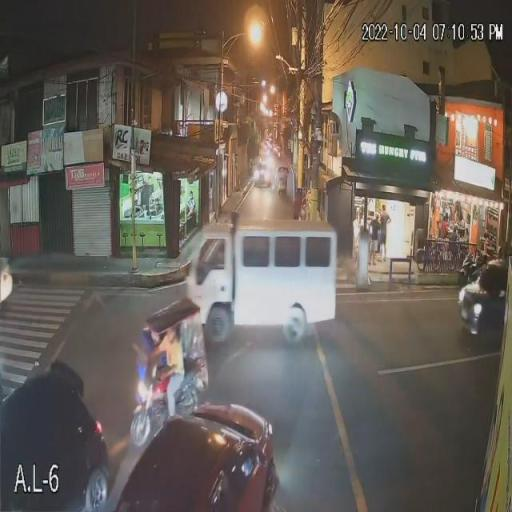motorcycle: (462, 252, 486, 285)
